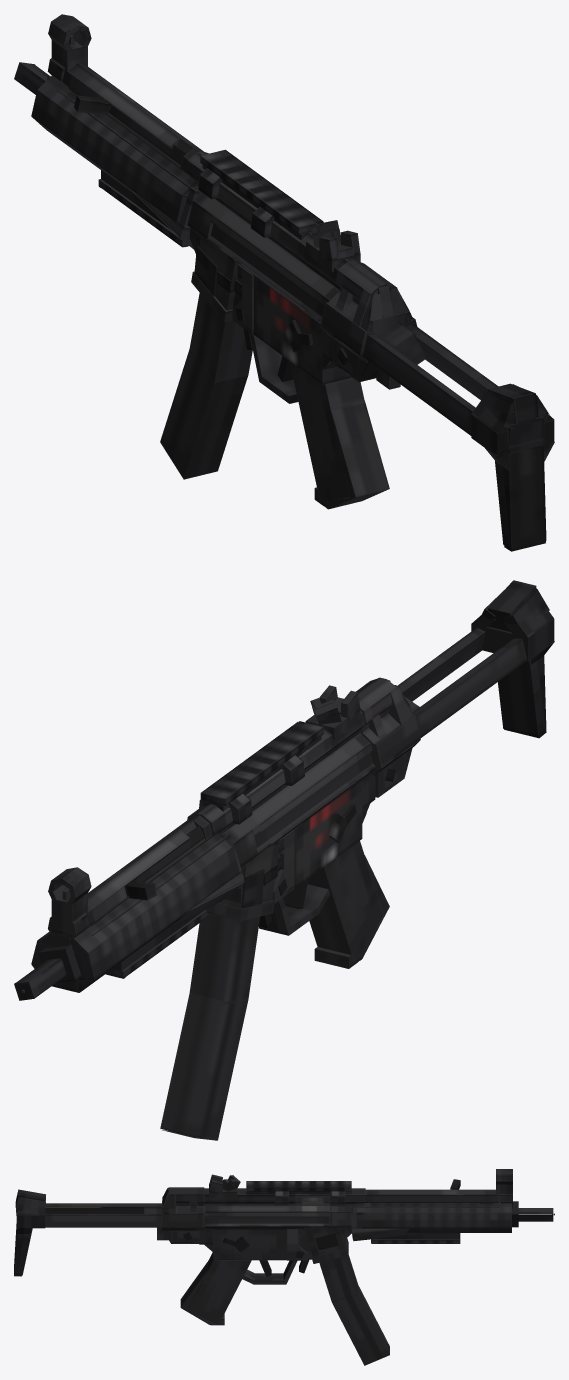
3 renders of one model, top to bottom at view 1: azimuth 30°, elevation 25°; view 2: azimuth 150°, elevation 25°; view 3: azimuth 270°, elevation 25°, orthographic. The views are drawn at different scales.
Parts seen in each view (by area): view 1: gun_146, magazine_2, mp5sd_8, rail_11, frontsight_17, bolt_3, underrail_3, handguard_17; view 2: gun_146, magazine_2, mp5sd_8, rail_11, frontsight_17, underrail_3, handguard_17, bolt_3; view 3: gun_146, mp5sd_8, magazine_2, rail_11, handguard_17, underrail_3, action_3, frontsight_17.
Boxes of the visible parts, box(x1,y1,x2,y2) form: gun_146: box(14, 58, 554, 551); magazine_2: box(160, 293, 252, 479); mp5sd_8: box(31, 75, 198, 224); rail_11: box(198, 149, 323, 240); frontsight_17: box(48, 14, 91, 71); bolt_3: box(74, 95, 186, 165); underrail_3: box(98, 170, 188, 247); handguard_17: box(57, 90, 200, 249); gun_146: box(14, 580, 554, 1000); magazine_2: box(160, 913, 259, 1140); mp5sd_8: box(31, 832, 239, 992); rail_11: box(199, 721, 323, 824); frontsight_17: box(48, 867, 91, 936); underrail_3: box(105, 910, 207, 978); handguard_17: box(92, 832, 244, 935); bolt_3: box(124, 826, 204, 900); gun_146: box(14, 1174, 553, 1325); mp5sd_8: box(356, 1201, 518, 1232); magazine_2: box(319, 1255, 389, 1365); rail_11: box(246, 1181, 351, 1204); handguard_17: box(351, 1205, 498, 1241); underrail_3: box(371, 1233, 460, 1243); action_3: box(295, 1197, 330, 1211); frontsight_17: box(496, 1169, 512, 1195).
Bounding box in the file's own units: 0.3964 × 1.89 × 4.82.
